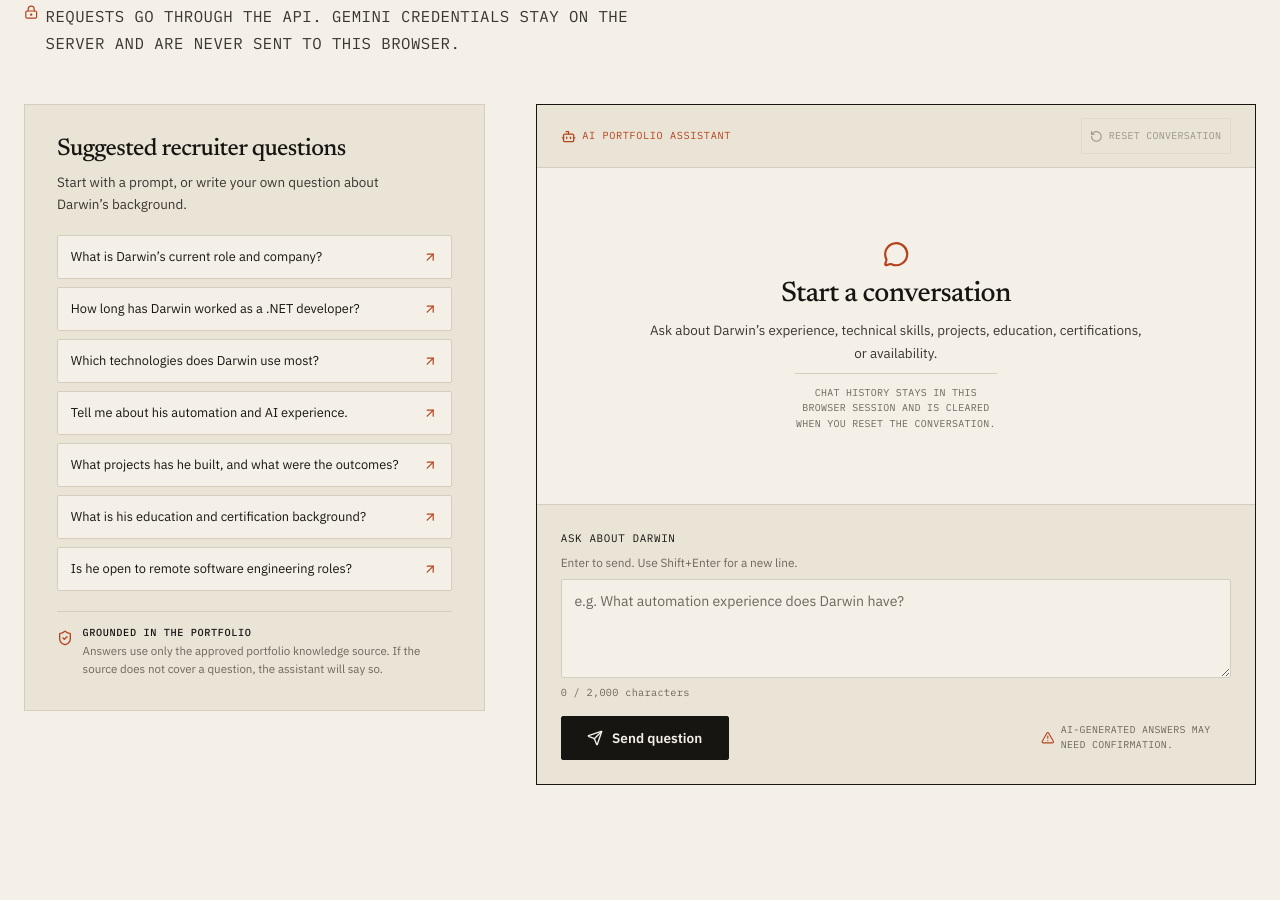
it: PortfolioAssistantSection › shows safe API error details and the error code
(page scrolled)
Type "Tell me about Darwin." into the text box with id "assistant-question" at (896, 628), box [561,579,1231,678]
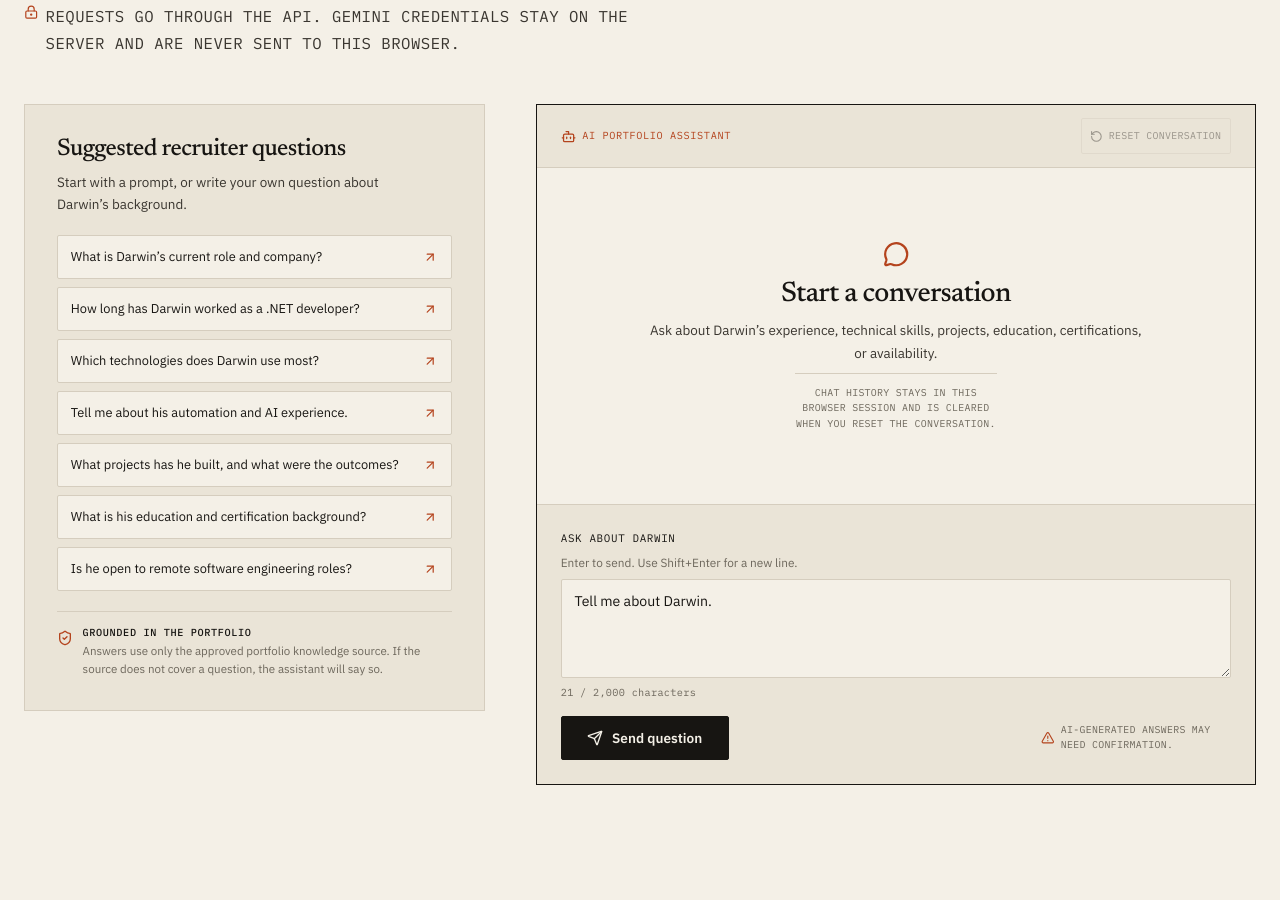
Submit the form, box [537,504,1255,784]
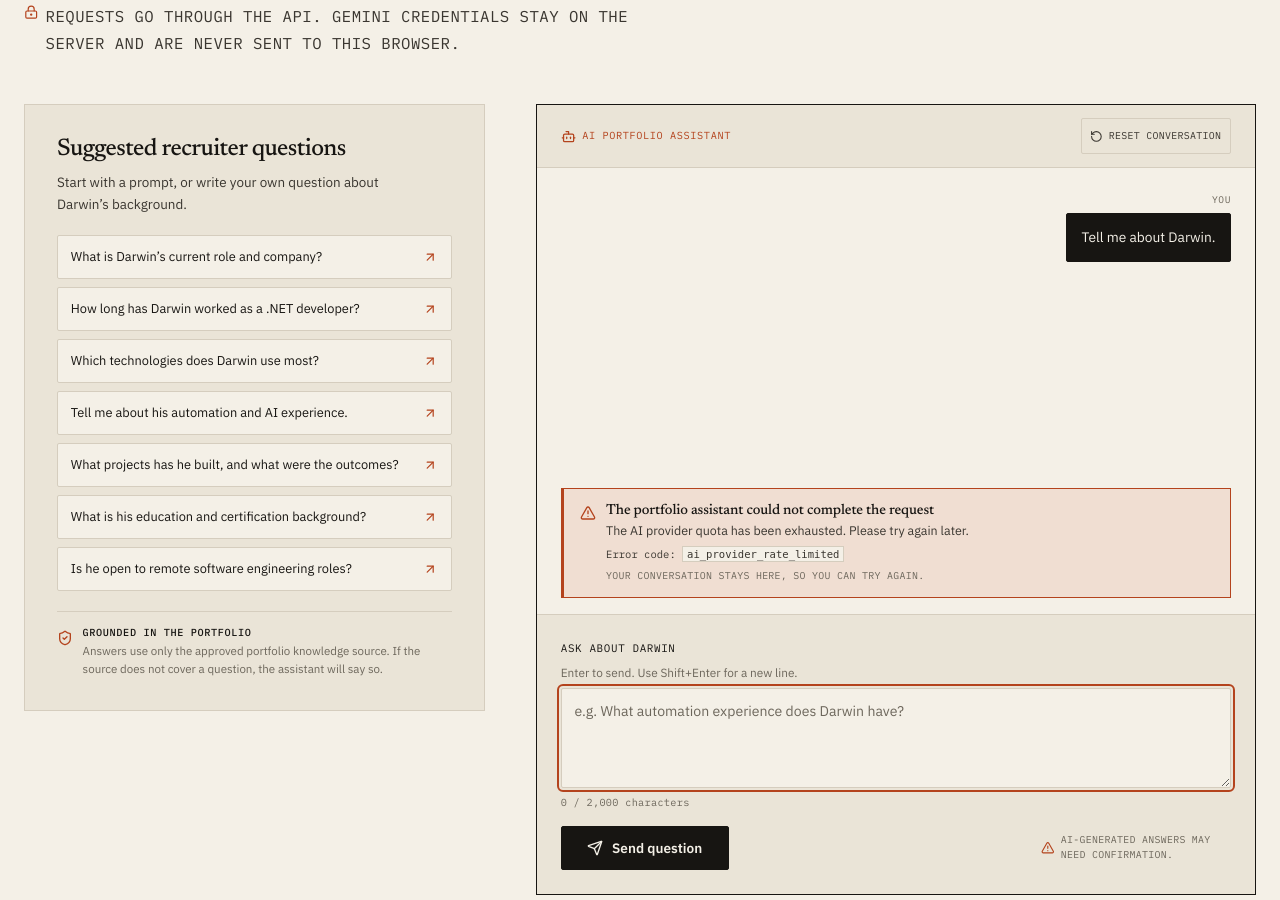
Expected: the message with class "assistant__error" shows "The AI provider quota has been exhausted", [606,522,969,538]
Expected: the message with class "assistant__error" shows "ai_provider_rate_limited", [687,548,839,560]
